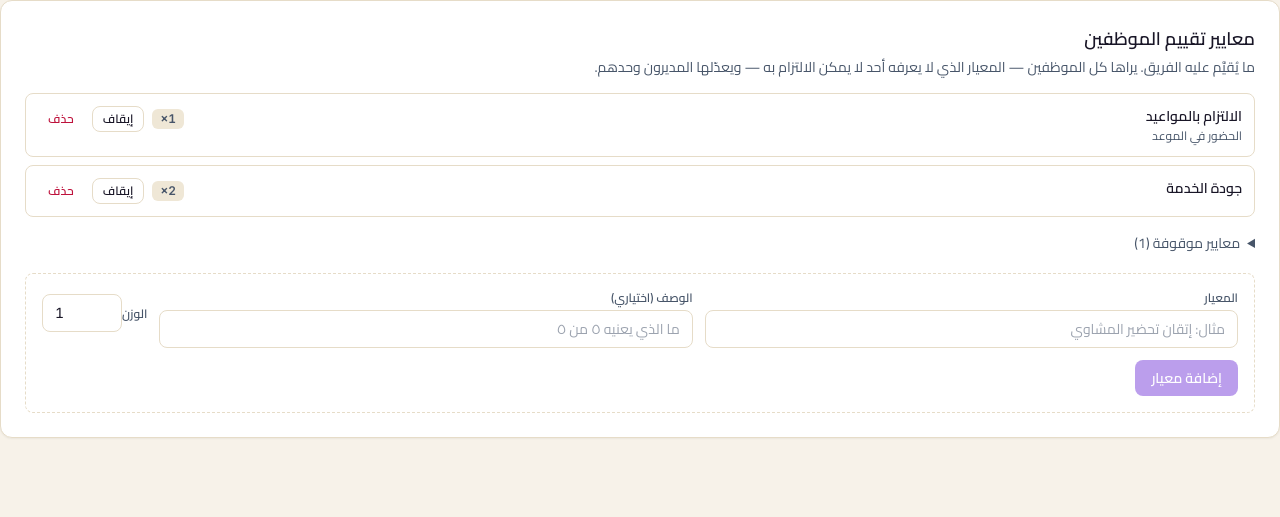
Test case: managing the rubric › passes the SERVER's refusal through when a criterion is in use
Click the button "حذف" in the row of "الالتزام بالمواعيد" at (61,119), box [38, 107, 84, 131]
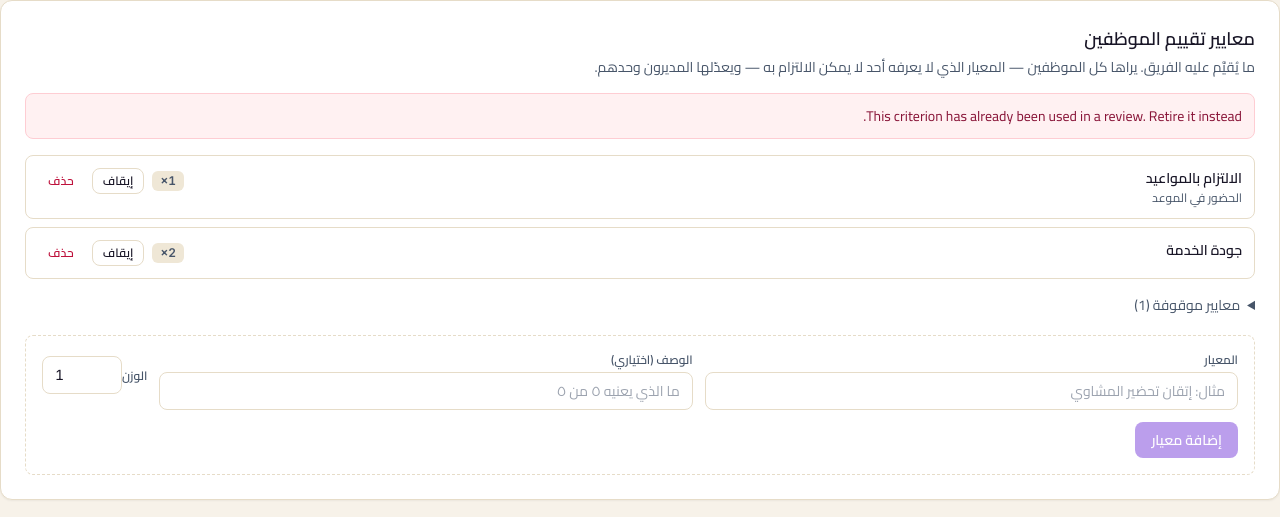
Check: the message shows "Retire it instead", box [863, 103, 1242, 129]
